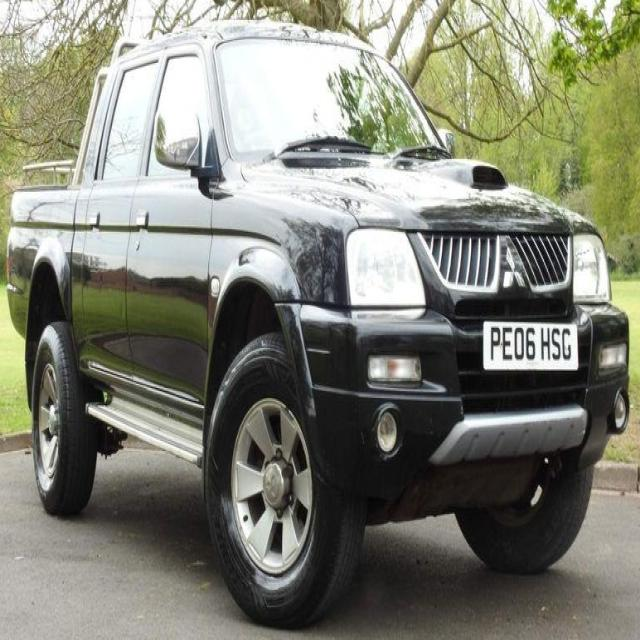CMT: (12, 19, 622, 604)
